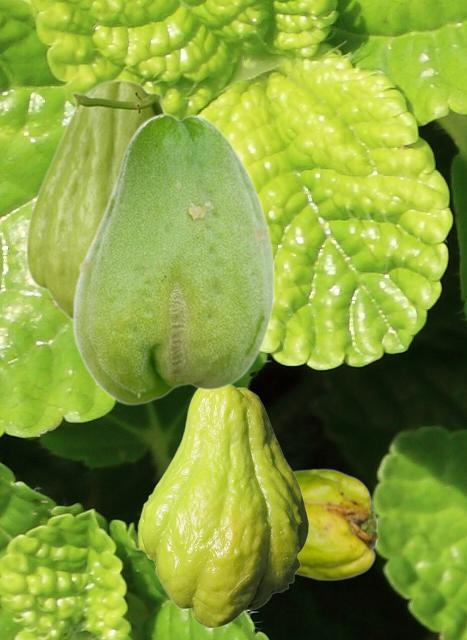sayote: (71, 112, 274, 404), (137, 385, 308, 627), (24, 79, 166, 321), (293, 468, 376, 580)
